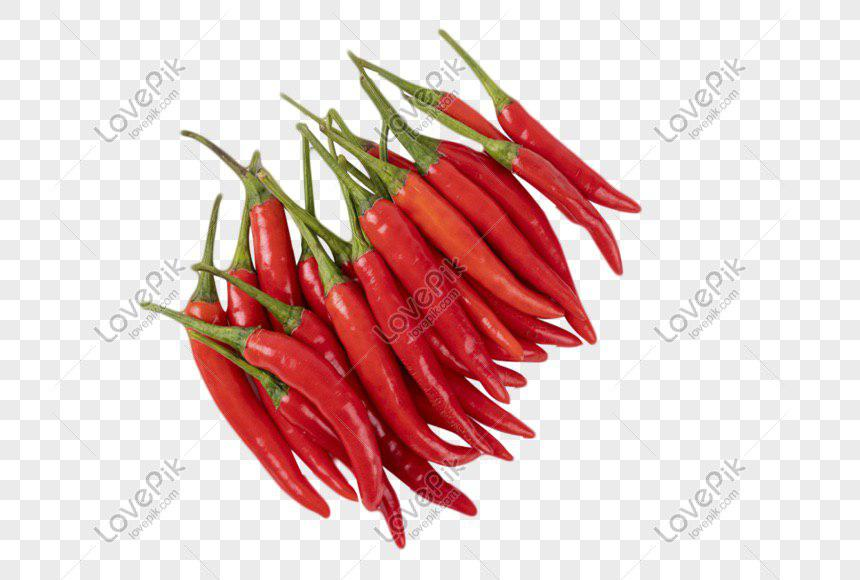lada merah: (180, 298, 328, 524), (351, 184, 502, 393), (355, 235, 491, 447), (236, 331, 390, 517), (386, 170, 566, 324), (421, 160, 583, 309), (328, 280, 440, 477), (503, 95, 641, 221), (490, 138, 623, 267)
